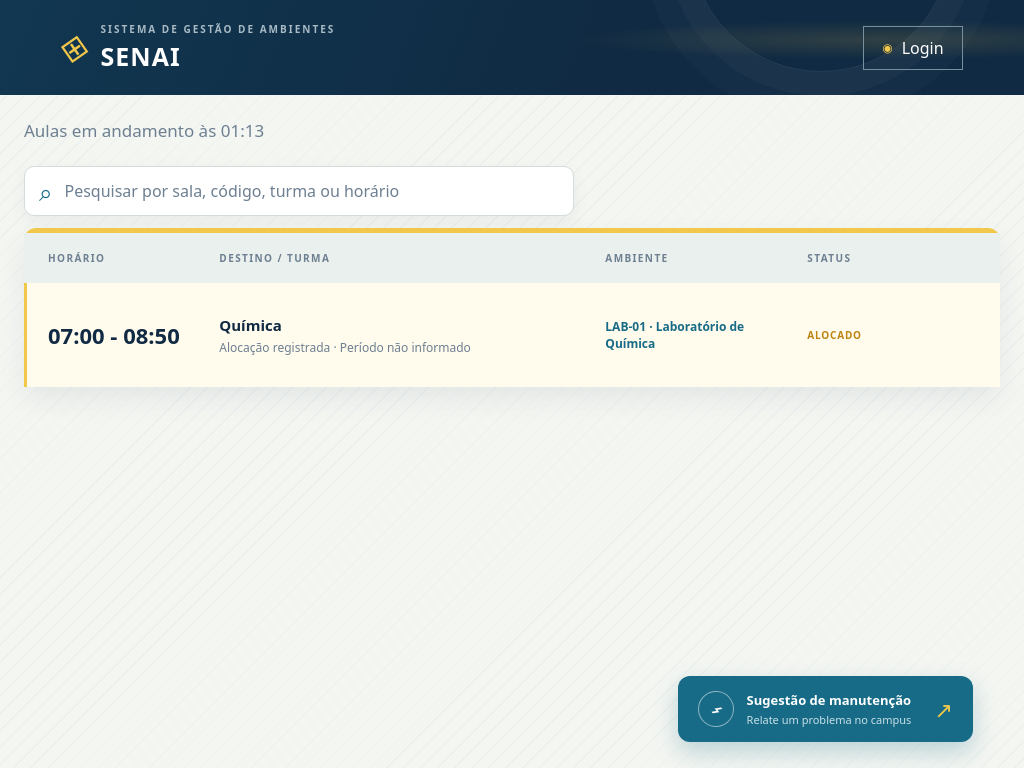
Test: shows a message when the search has no matching room
The image size is (1024, 768).
Expected: the text "LAB-01 · Laboratório de Química" is shown, [605,318,744,352]
Step 1. Type "biblioteca" into the search field named "Pesquisar salas" → (311, 191), box [62,167,559,215]
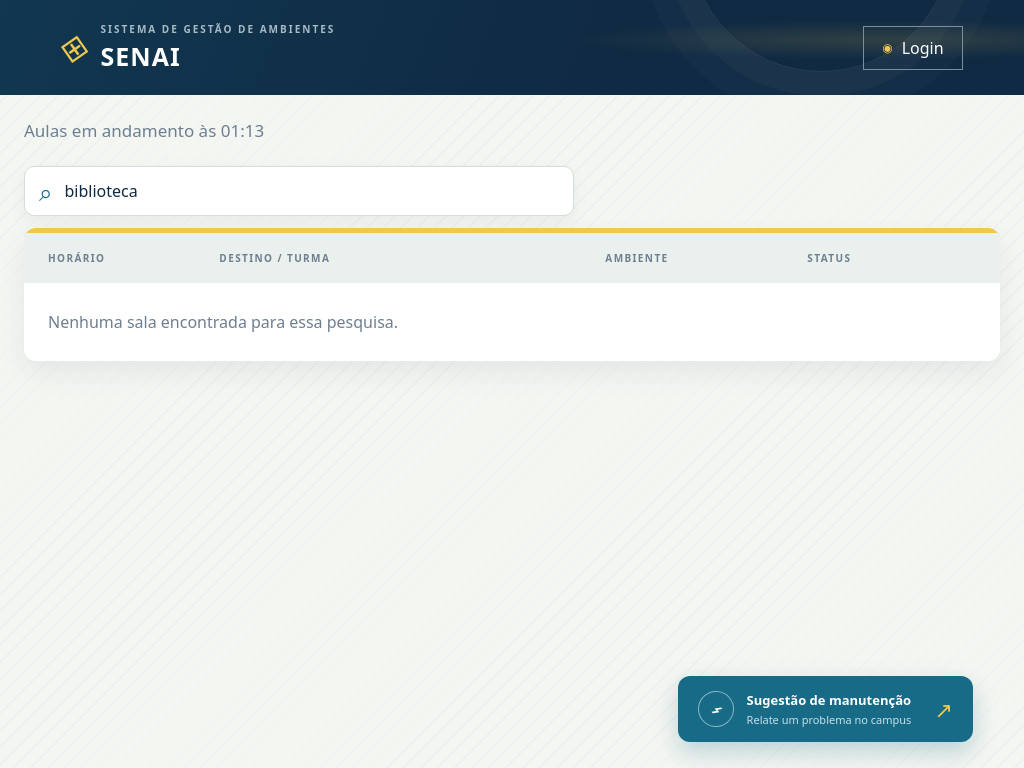
Expected: the text "Nenhuma sala encontrada para essa pesquisa." is shown, [48,311,398,333]
